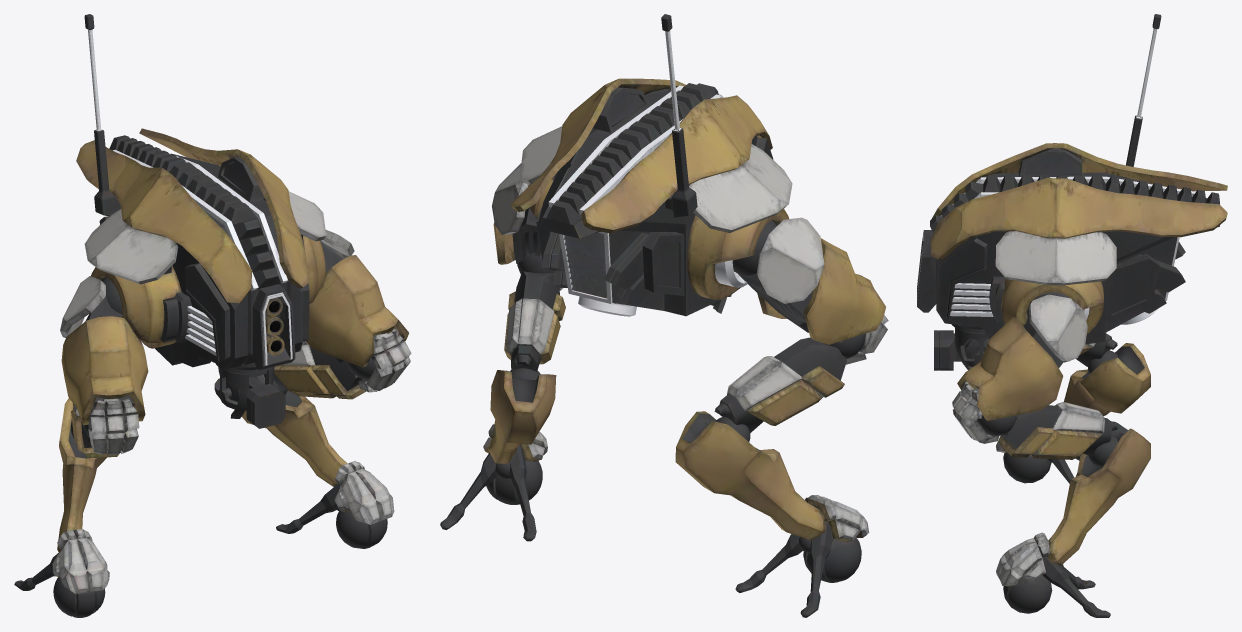
The model's file is grunt.glb.
3 views of the same model, side by side, from view 1: azimuth 30°, elevation 25°; view 2: azimuth 150°, elevation 25°; view 3: azimuth 270°, elevation 25° (orthographic). The views are drawn at different scales.
Visible parts, largest first — view 1: Gunner; view 2: Gunner; view 3: Gunner.
Part boxes in pixels (<box>): Gunner: <box>14,14,411,617</box>; Gunner: <box>440,14,888,617</box>; Gunner: <box>917,14,1227,617</box>.
Bounding box in the file's own units: 0.6422 × 0.9857 × 0.5525.
1 material, 1 textured.
